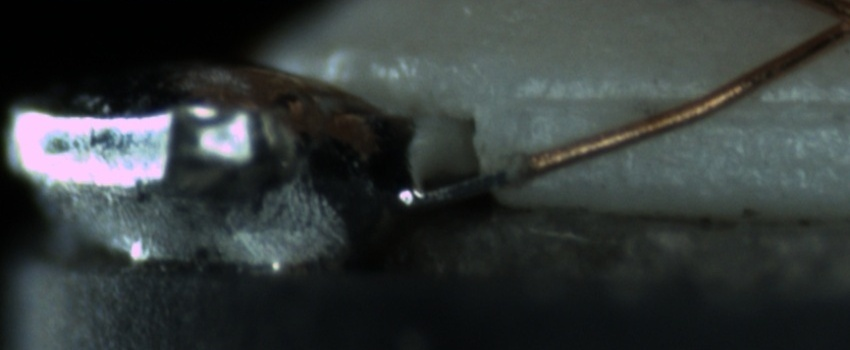CL: (810, 1, 849, 44)
DL: (519, 71, 846, 137)
TS: (392, 160, 516, 209)
TTCW: (391, 137, 580, 209)
